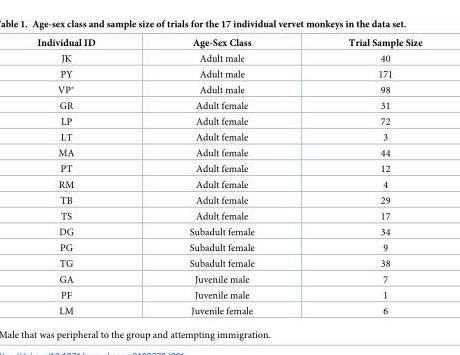table: (36, 37, 421, 315)
table column: (141, 37, 300, 315), (300, 37, 421, 315), (36, 37, 141, 315)
table column header: (36, 37, 421, 50)
table row: (36, 50, 421, 66), (36, 81, 421, 97), (36, 97, 421, 113), (36, 113, 421, 129), (36, 144, 421, 160), (36, 160, 421, 176), (36, 176, 421, 192), (36, 192, 421, 208), (36, 223, 421, 239), (36, 239, 421, 255), (36, 255, 421, 271), (36, 286, 421, 302), (36, 66, 421, 81), (36, 129, 421, 144), (36, 208, 421, 223), (36, 271, 421, 286), (36, 37, 421, 50), (36, 302, 421, 315)
